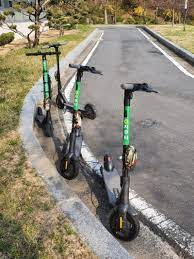kick_board: (102, 80, 159, 239)
kick_handler: (121, 82, 159, 103), (70, 63, 102, 80), (26, 50, 62, 60), (43, 40, 68, 49)
kick_neck: (121, 106, 133, 208), (73, 83, 81, 150), (43, 63, 51, 113)
kick_wheel: (108, 211, 139, 240), (60, 155, 79, 179), (84, 101, 96, 119), (57, 94, 67, 110), (45, 120, 53, 136)
